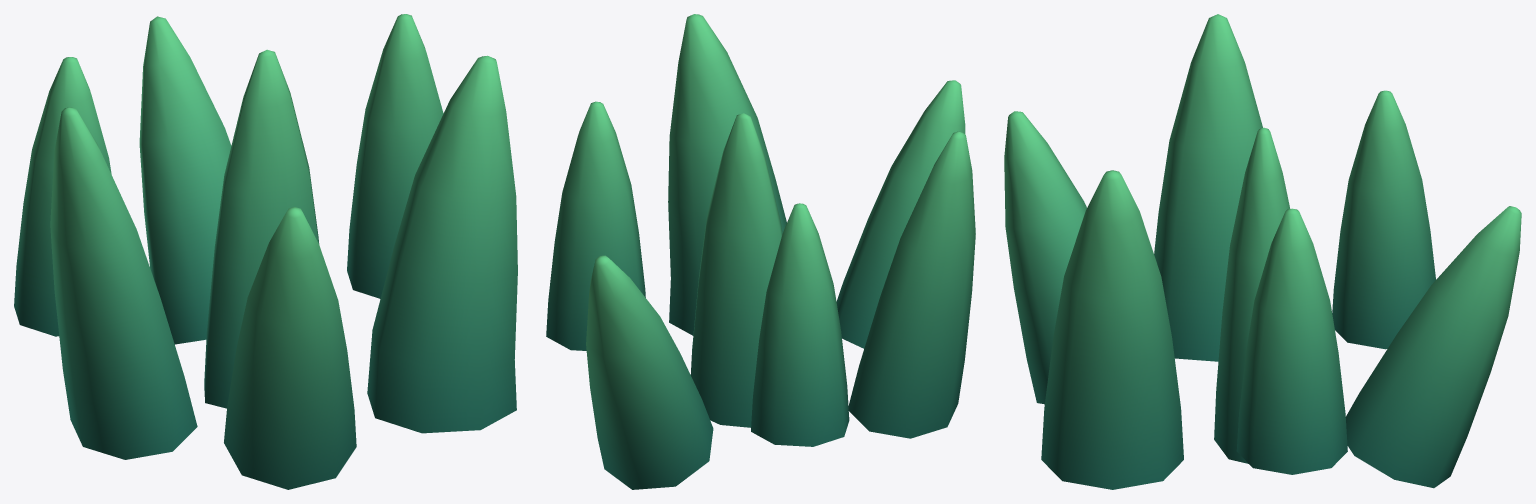
Rendered from Grass.002.fbx.
3 views of the same model, side by side, from view 1: azimuth 30°, elevation 25°; view 2: azimuth 150°, elevation 25°; view 3: azimuth 270°, elevation 25° (orthographic). The views are drawn at different scales.
Parts seen in each view (by area): view 1: Grass.002; view 2: Grass.002; view 3: Grass.002.
Boxes of the visible parts, x1=… form: Grass.002: x1=14, y1=14, x2=517, y2=489; Grass.002: x1=546, y1=14, x2=975, y2=489; Grass.002: x1=1004, y1=14, x2=1521, y2=489.
Size of the model in its own units: 0.3354 by 0.2814 by 0.3714.
